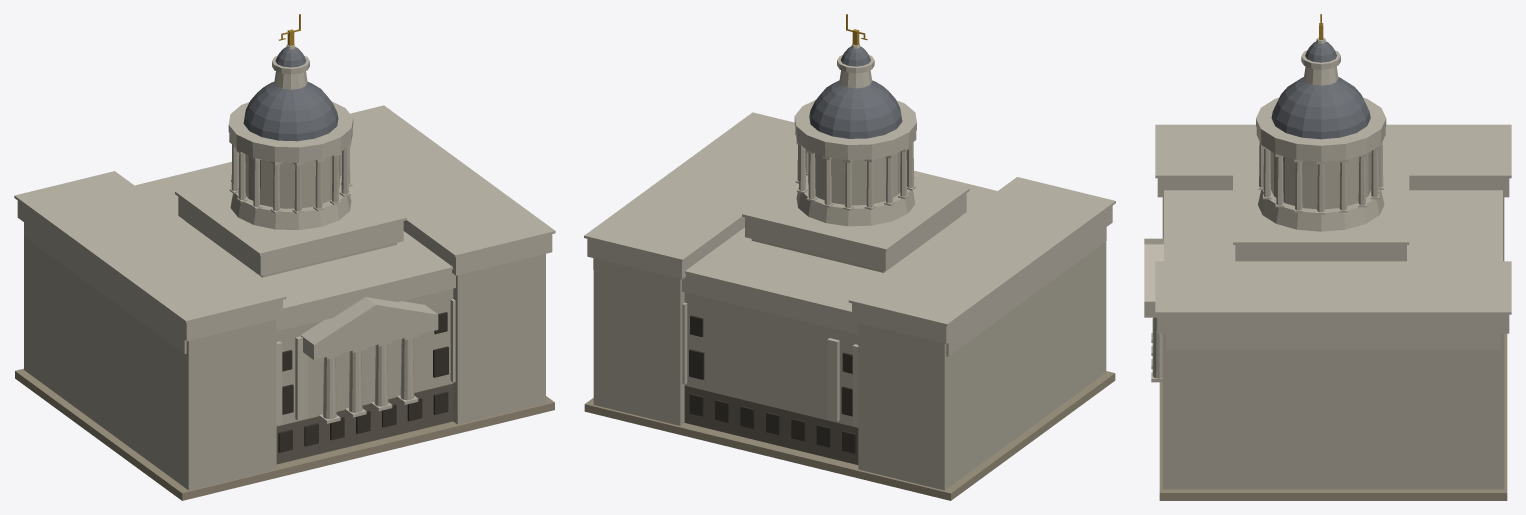
The model's file is old_bailey.glb.
3 views of the same model, side by side, from view 1: azimuth 30°, elevation 25°; view 2: azimuth 150°, elevation 25°; view 3: azimuth 270°, elevation 25° (orthographic). The views are drawn at different scales.
Parts seen in each view (by area): view 1: old_bailey; view 2: old_bailey; view 3: old_bailey.
Part boxes in pixels (<box>): old_bailey: <box>14,14,555,500</box>; old_bailey: <box>584,14,1115,500</box>; old_bailey: <box>1144,14,1511,500</box>.
Bounding box in the file's own units: 72 × 70.5 × 59.2.
